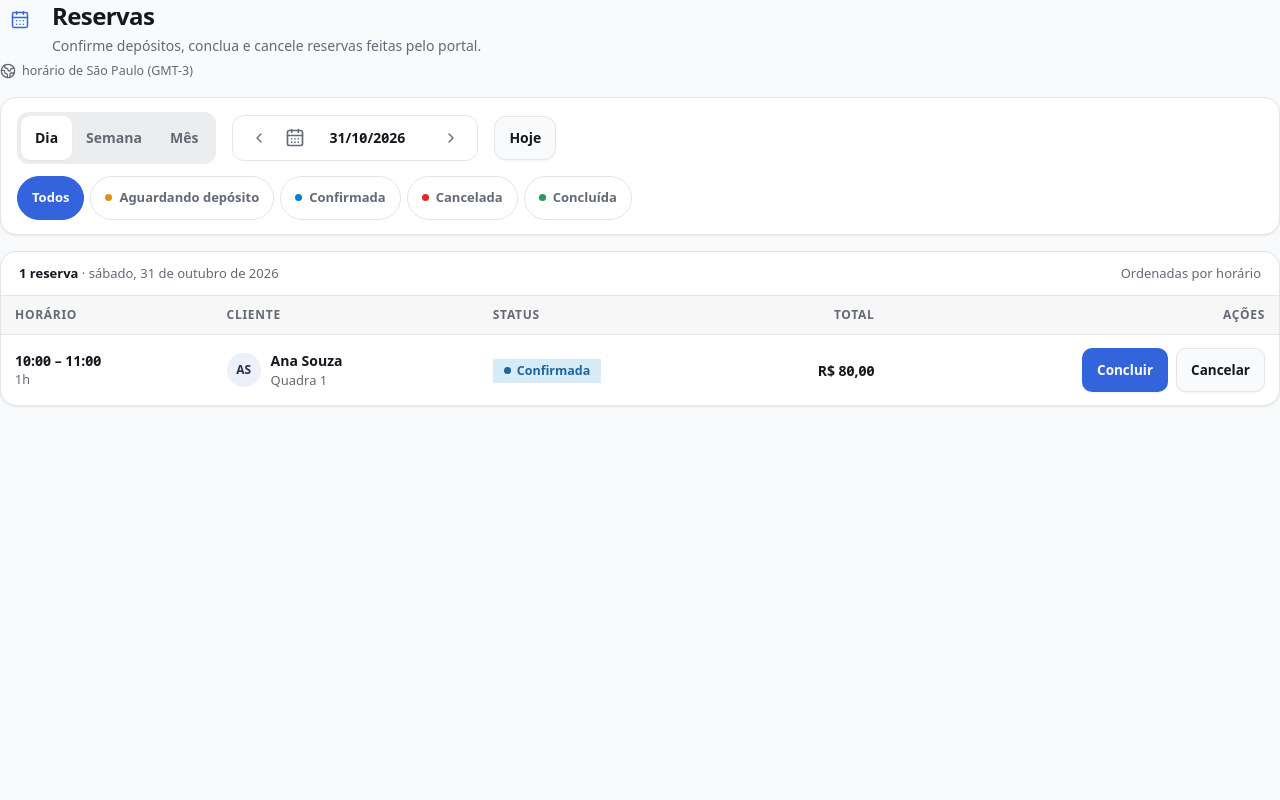
Scenario: ReservationsPage Cancel confirmation › asks for confirmation before cancelling and shows the customer, resource and time range
This screenshot has width=1280, height=800.
Expected: the text "Ana Souza" is shown, [271,351,342,370]
Click the button "Cancelar".
click(1220, 370)  # box [1176,348,1265,392]
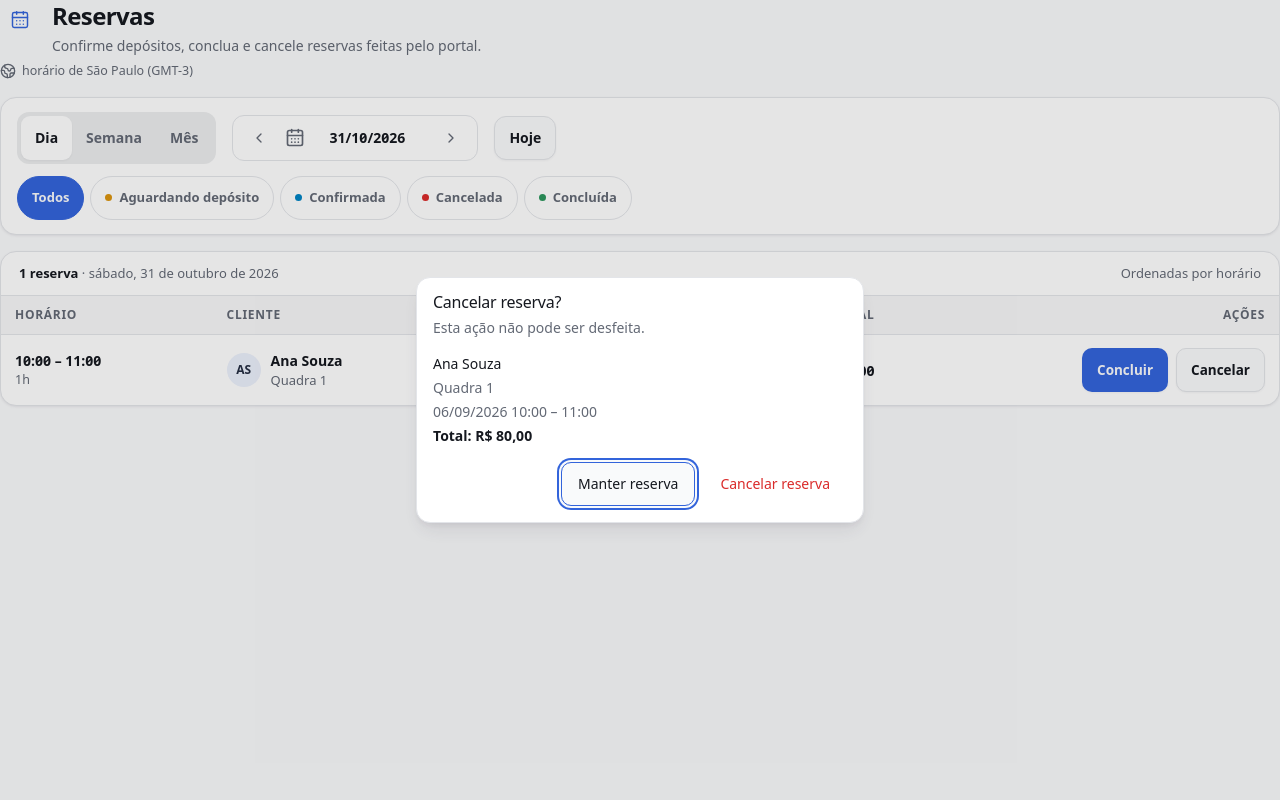
Expected: the heading "Cancelar reserva?" is shown, [433,291,561,313]
Expected: the text "06/09/2026 10:00 – 11:00" is shown, [433,402,597,421]
Expected: the dialog is shown, [416,277,864,523]
